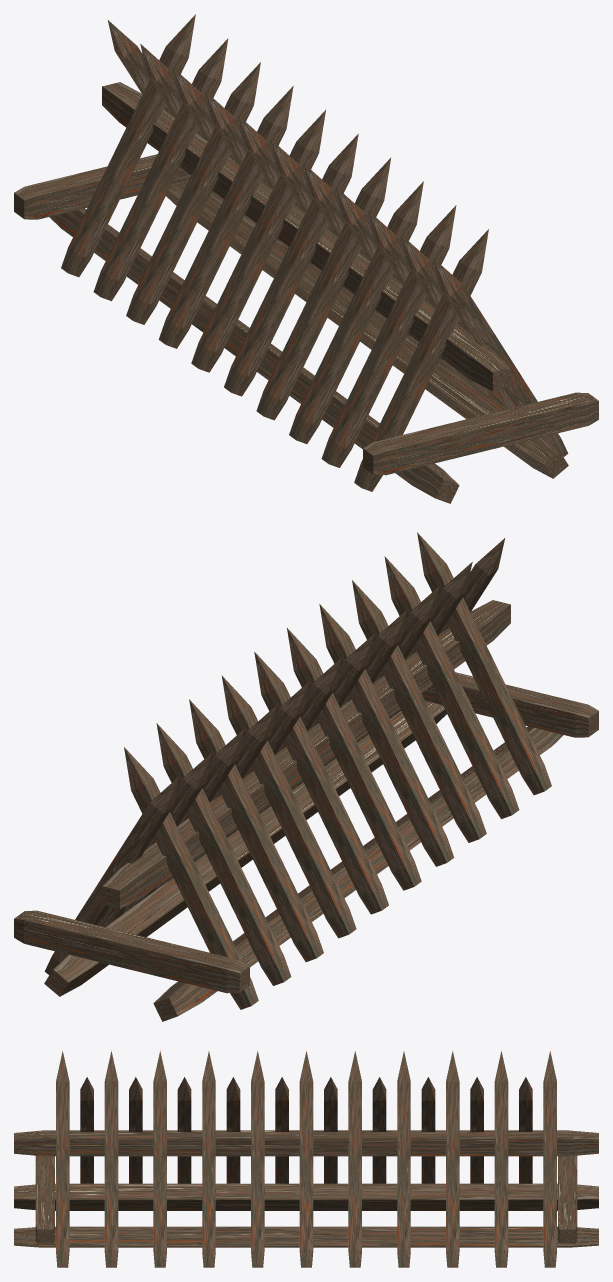
File: barrier_middle_2.fbx
3 renders of one model, top to bottom at view 1: azimuth 30°, elevation 25°; view 2: azimuth 150°, elevation 25°; view 3: azimuth 270°, elevation 25°, orthographic. The views are drawn at different scales.
Visible parts, largest first — view 1: Cube.005; view 2: Cube.005; view 3: Cube.005.
Boxes of the visible parts, left/top/right/bottom form: Cube.005: left=14, top=14, right=598, bottom=503; Cube.005: left=14, top=532, right=598, bottom=1021; Cube.005: left=14, top=1050, right=598, bottom=1267.
Bounding box in the file's own units: 200 × 196 × 600.
